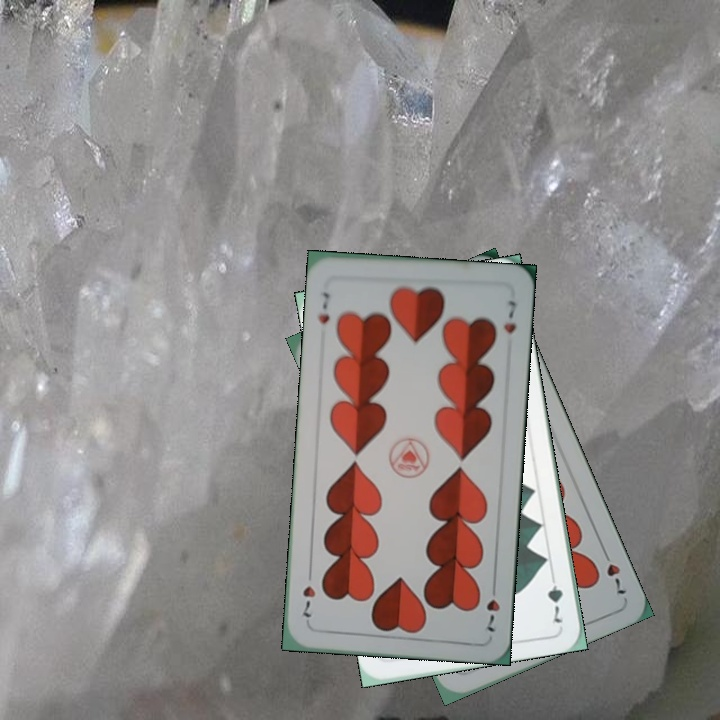G7: (543, 568, 566, 628)
H7: (597, 543, 629, 597), (480, 578, 503, 635), (314, 287, 332, 327)
